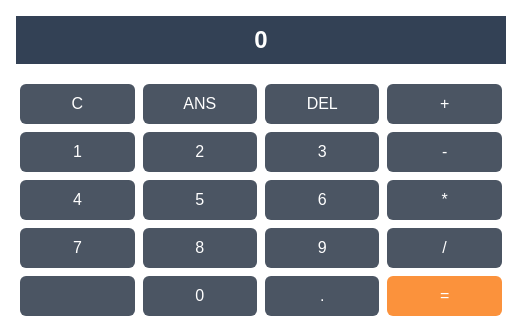
Test: Calculator › Calculator render display with 1 successfully after click 1
Click the button with test id "calculator-button-1" at point(77, 152), box [20,132,135,172]
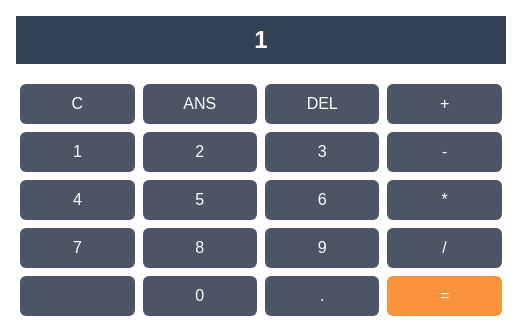
Result: the text with test id "calculator-display" reads "1" at [254,26,268,53]
